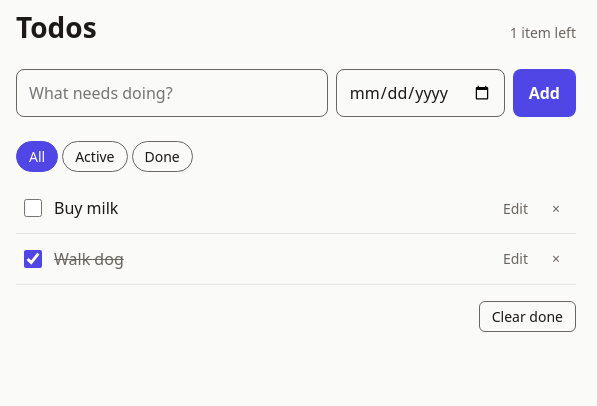
Scenario: App › filters and count › clear done keeps todos whose delete failed and shows an error
Expected: the text "Buy milk" is shown, [54,196,118,220]
Click the button "Clear done" at (527, 316), box [479,301,576,332]
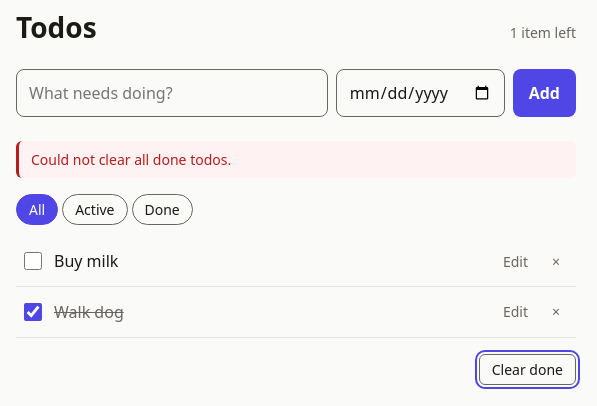
Expected: the text "Walk dog" is shown, [54,300,124,324]
Result: the message reads "Could not clear all done todos." at [31,150,231,169]
